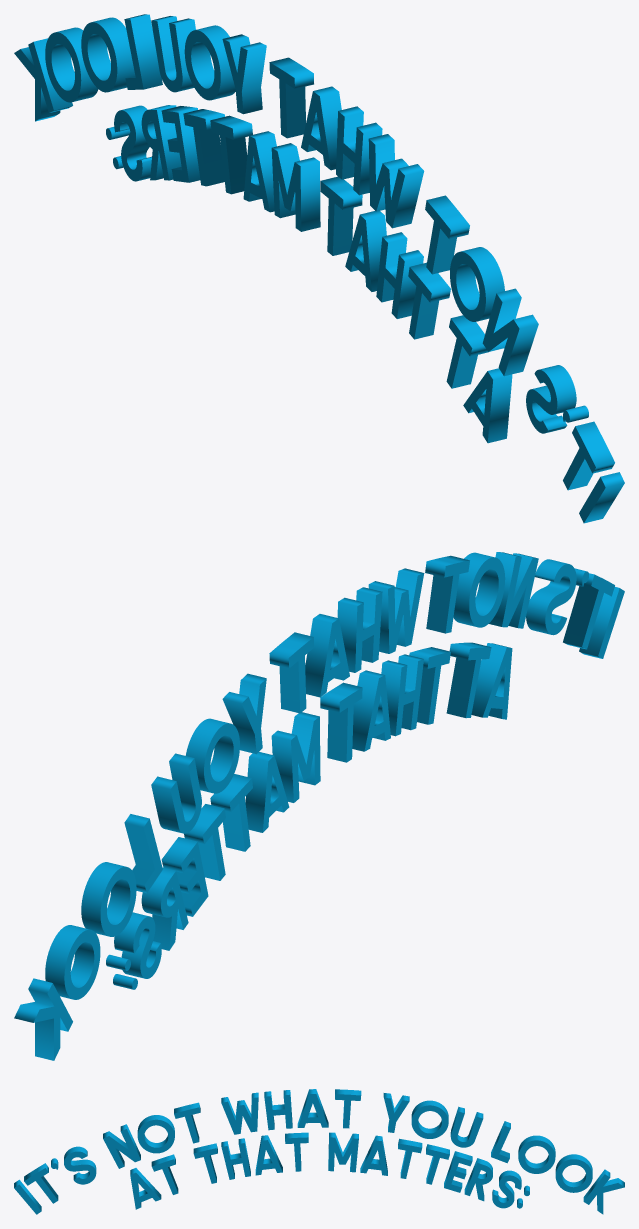
3 renders of one model, top to bottom at view 1: azimuth 30°, elevation 25°; view 2: azimuth 150°, elevation 25°; view 3: azimuth 270°, elevation 25°, orthographic. The views are drawn at different scales.
Parts seen in each view (by area): view 1: Text; view 2: Text; view 3: Text.
Boxes of the visible parts, <box> form: Text: <box>14,14,624,523</box>; Text: <box>14,552,624,1060</box>; Text: <box>14,1089,624,1214</box>.
Bounding box in the file's own units: 0.24 × 2.79 × 12.77.
